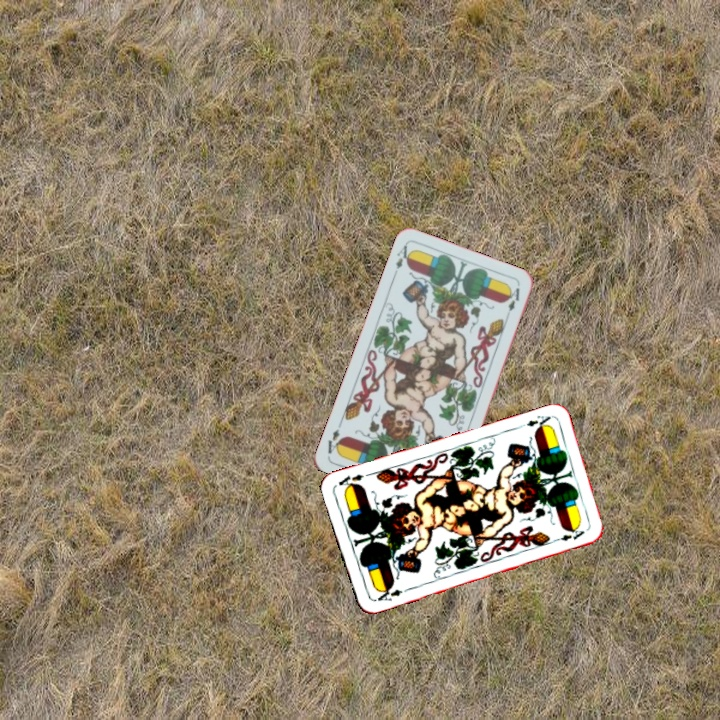EA: (389, 241, 415, 280), (514, 411, 553, 432), (370, 583, 405, 604)
